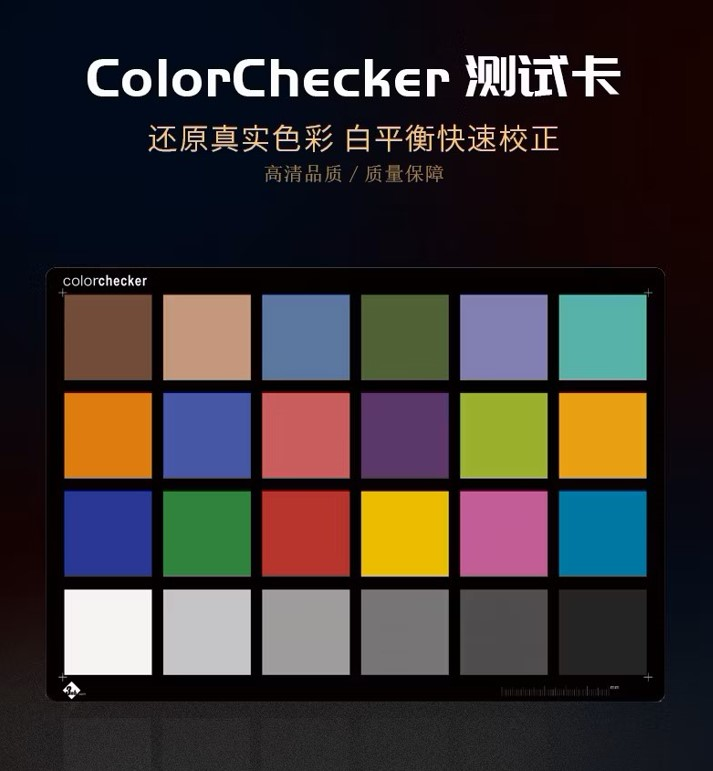ColourChecker: (56, 290, 650, 678)
